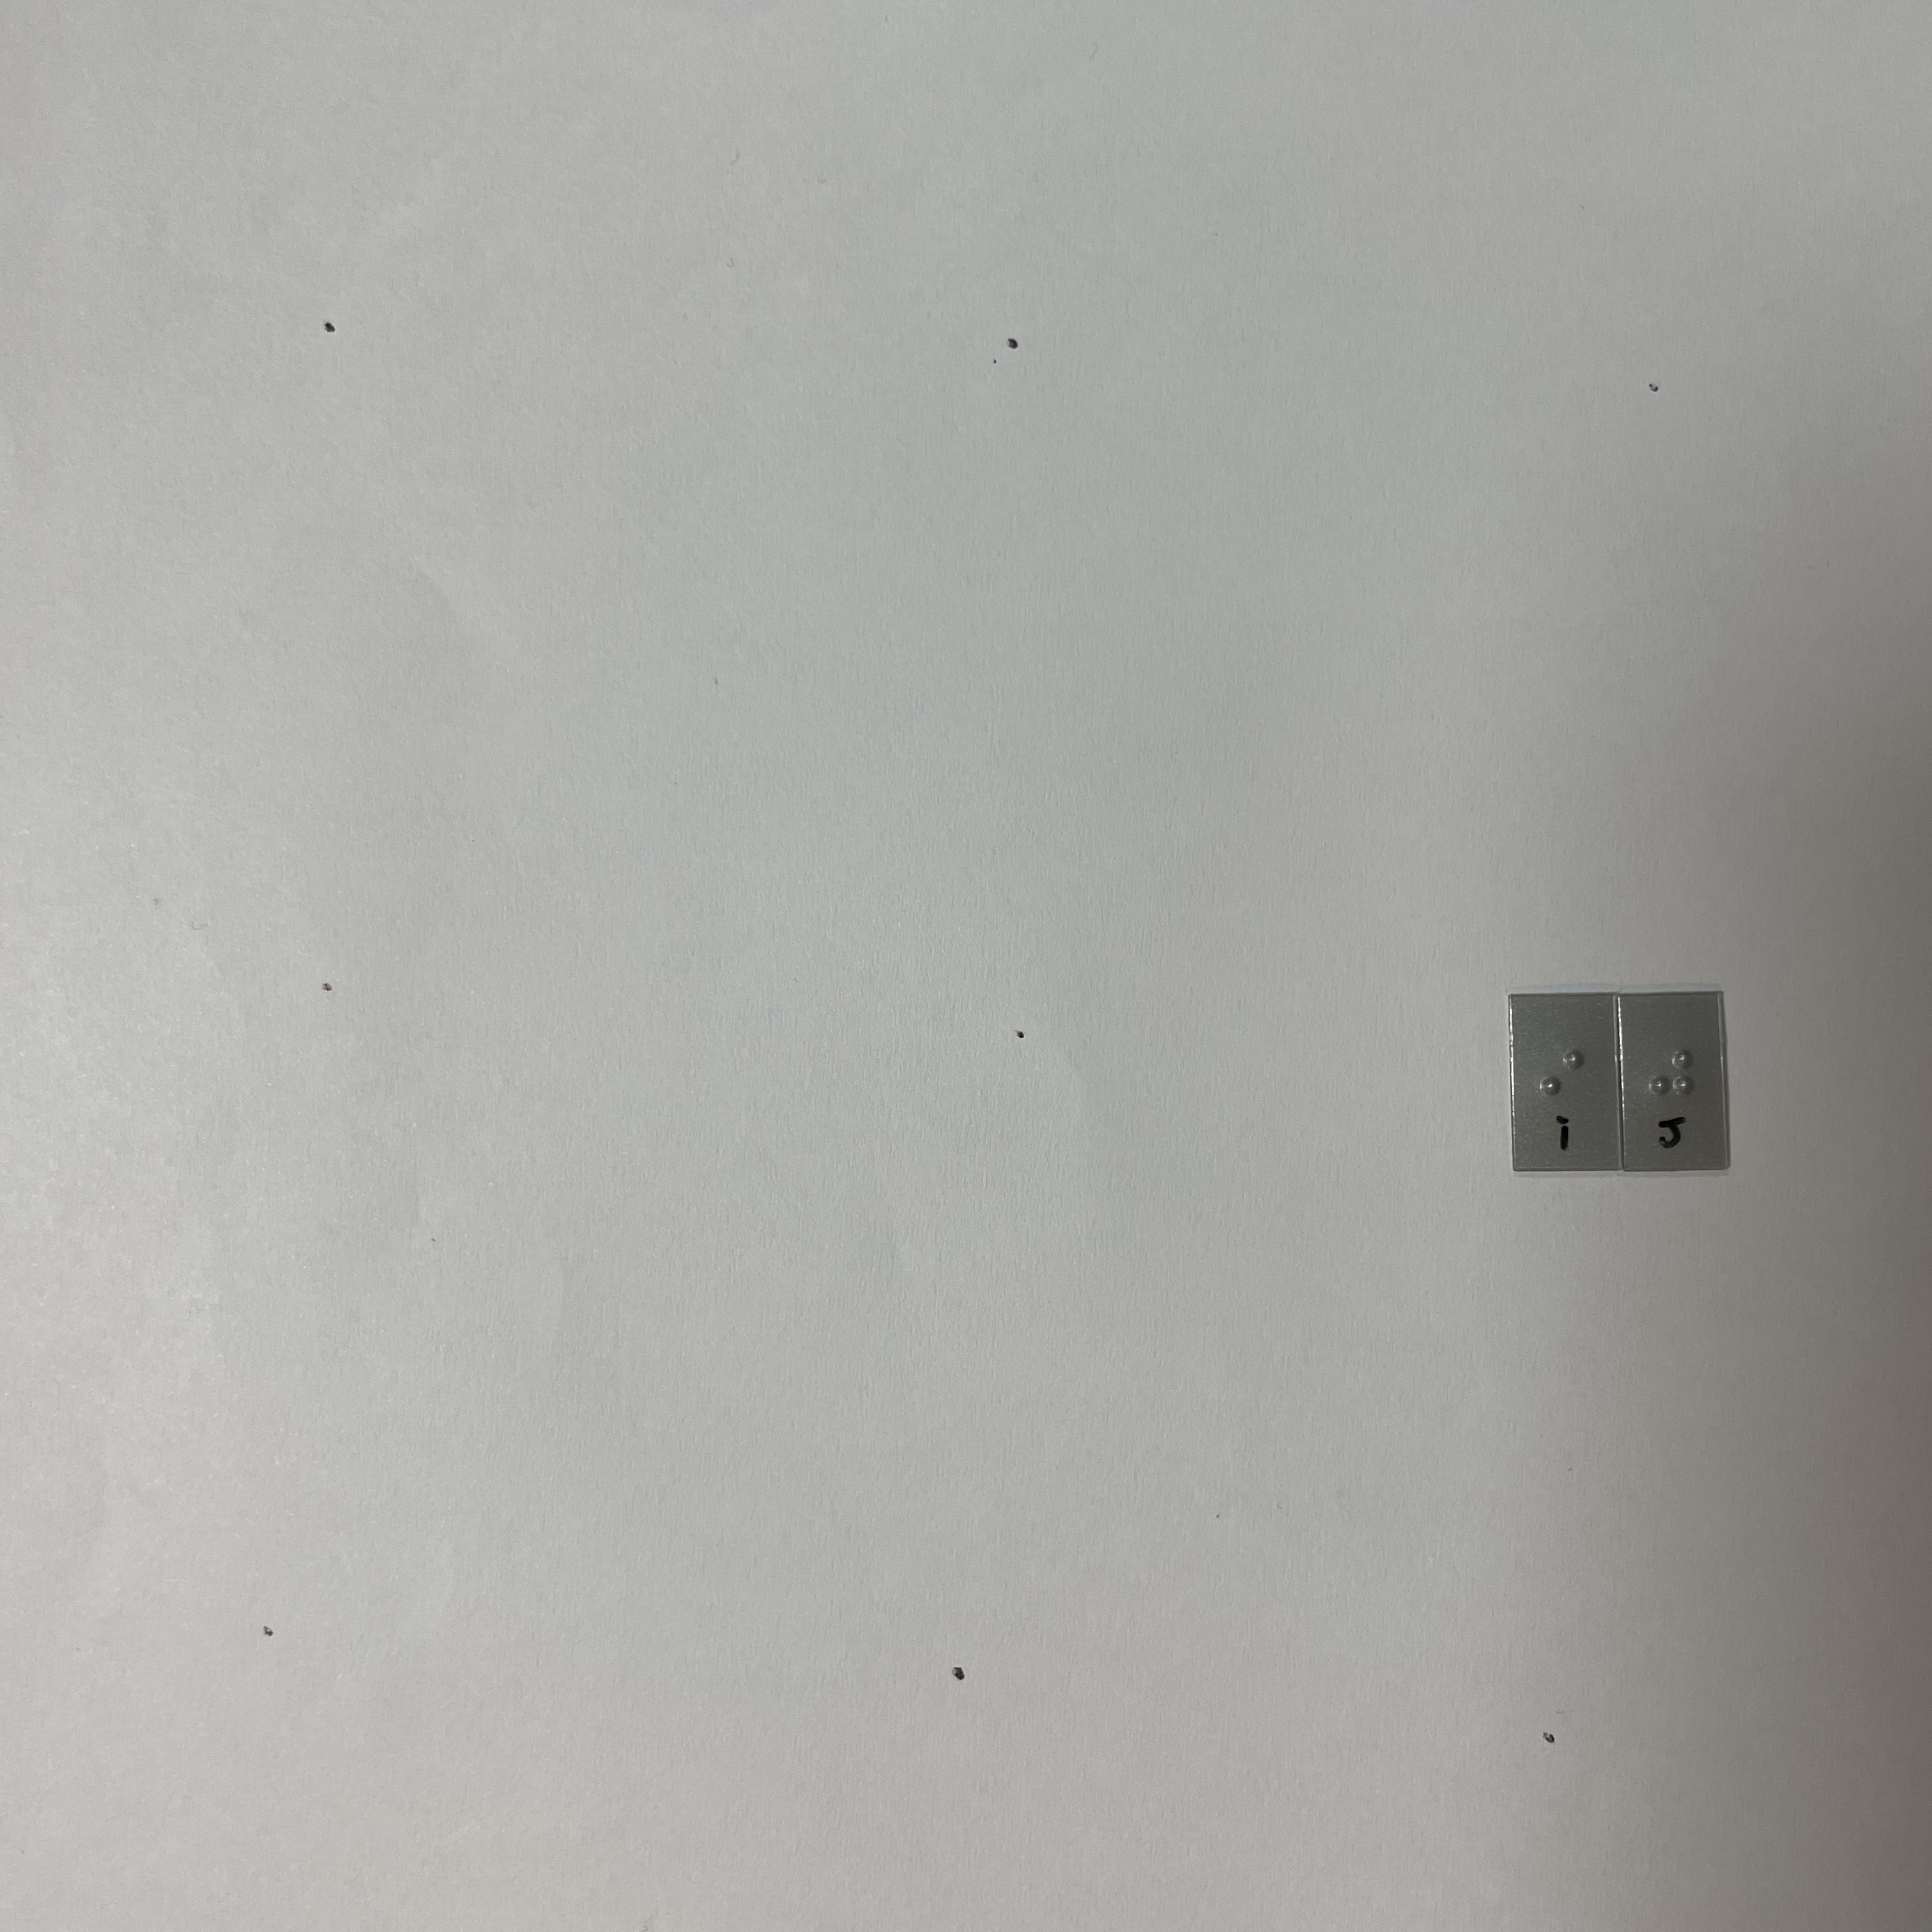i: (1533, 1044, 1597, 1136)
j: (1640, 1034, 1704, 1126)
